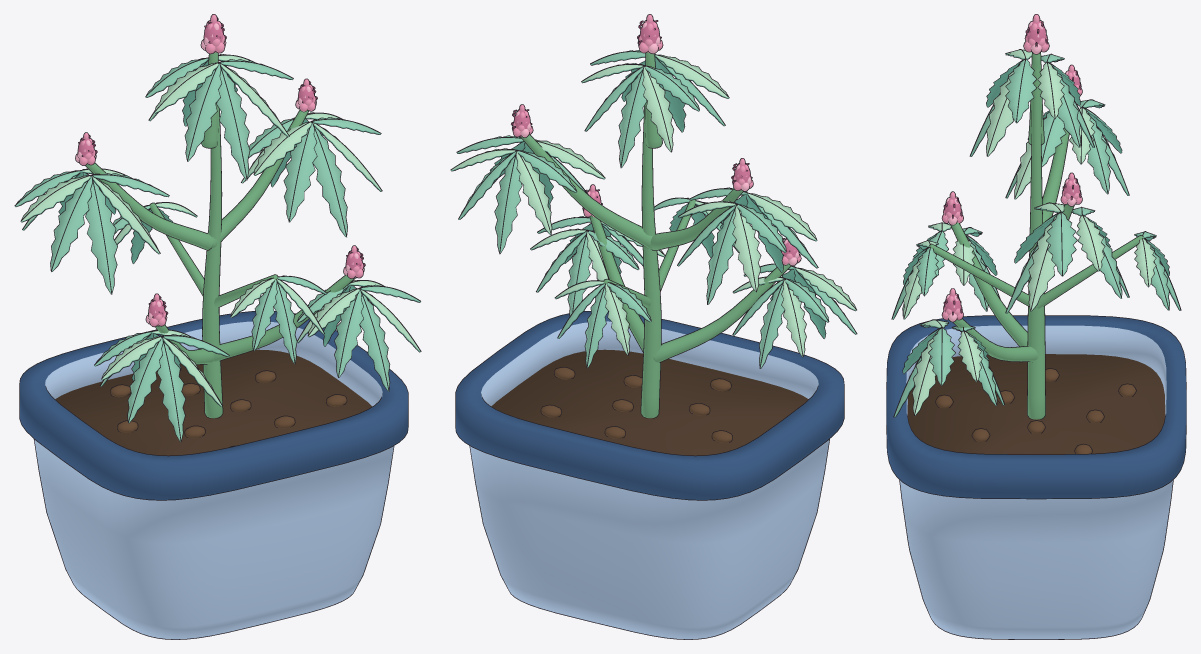
The model's file is cannabis_menthe_rose_growing_toon.glb.
The picture shows the model from 3 angles, left to right: view 1: azimuth 30°, elevation 25°; view 2: azimuth 150°, elevation 25°; view 3: azimuth 270°, elevation 25°; orthographic projection.
Visible parts, largest first — view 1: cannabis_menthe_rose_growing_Geometry; view 2: cannabis_menthe_rose_growing_Geometry; view 3: cannabis_menthe_rose_growing_Geometry.
Boxes of the visible parts, x1=… form: cannabis_menthe_rose_growing_Geometry: x1=14, y1=14, x2=421, y2=639; cannabis_menthe_rose_growing_Geometry: x1=450, y1=14, x2=857, y2=639; cannabis_menthe_rose_growing_Geometry: x1=886, y1=14, x2=1186, y2=639.
Bounding box in the file's own units: 0.4753 × 0.7162 × 0.3413.
